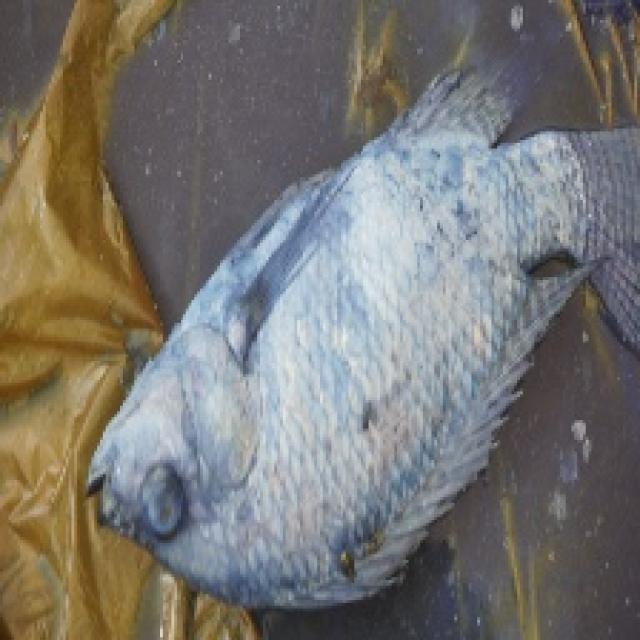Non-Fresh: (74, 245, 581, 617)
